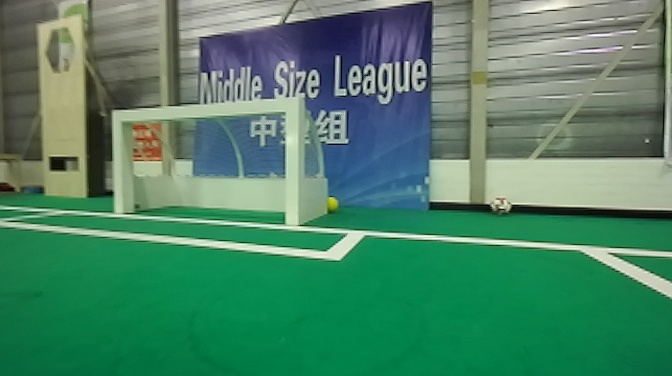ball: (321, 191, 342, 216)
goalpost: (99, 101, 139, 220), (276, 97, 311, 232)
